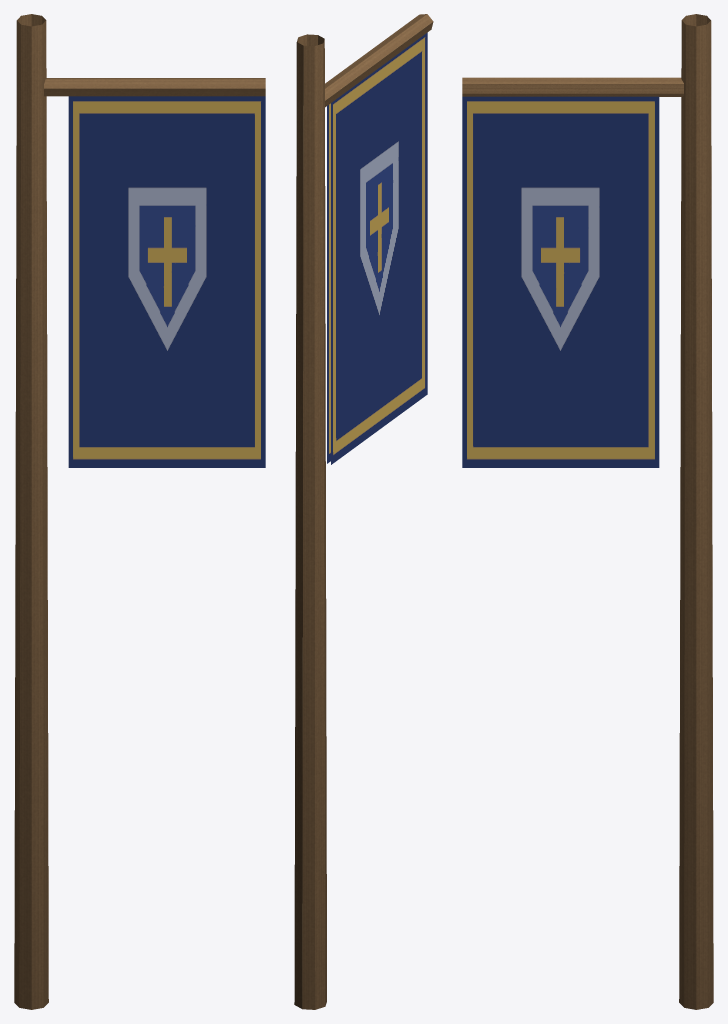
Rendered from banner_pole.glb.
3 views of the same model, side by side, from view 1: azimuth 90°, elevation 25°; view 2: azimuth 150°, elevation 25°; view 3: azimuth 270°, elevation 25° (orthographic). The views are drawn at different scales.
Parts seen in each view (by area): view 1: banner_pole; view 2: banner_pole; view 3: banner_pole.
Boxes of the visible parts, box(x1,y1,x2,y2) form: banner_pole: box(14, 14, 265, 1009); banner_pole: box(294, 14, 433, 1009); banner_pole: box(462, 14, 713, 1009).
Size of the model in its own units: 0.14 by 4.4 by 1.02.
Materials: 2 (2 with a texture image).
